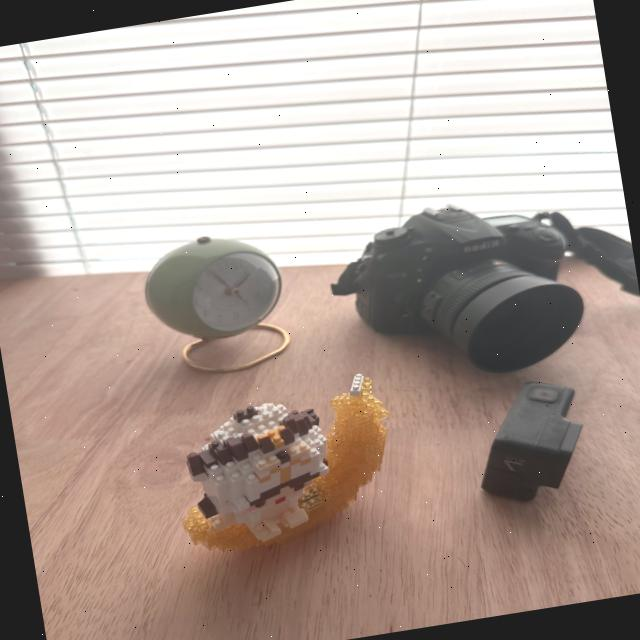actioncam: (417, 354, 632, 539)
camera: (315, 163, 640, 390)
clock: (132, 208, 308, 411)
toy: (138, 339, 448, 584)
